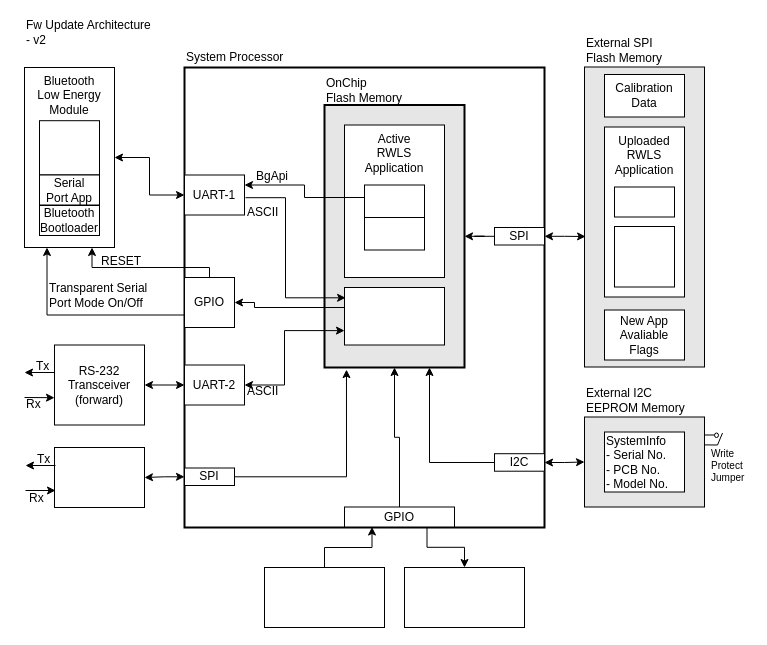
Some shapes in this 767 by 645 pixel diagram are drawn without their labels. Here are the shapes that lost their labels. From the top down, the centre of each, then its label:
At point 69,147: "SiLabs Generic NCP App".
At point 394,201: "SiLabs BgLib".
At point 644,201: "Validity Signature".
At point 394,233: "BT GATT Database".
At point 644,256: "Supported PCB Version(s)".
At point 394,315: "Bootloader Firmware".
At point 99,477: "CAN Bus CoProcessor (CAN-FD)".
At point 324,597: "Keypad or other HW IO to enter Bootloader FW Update Mode".
At point 464,597: "Display backlight or other LED used for feedback to user.".
